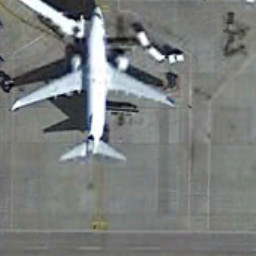Airplane: (6, 4, 178, 172)
